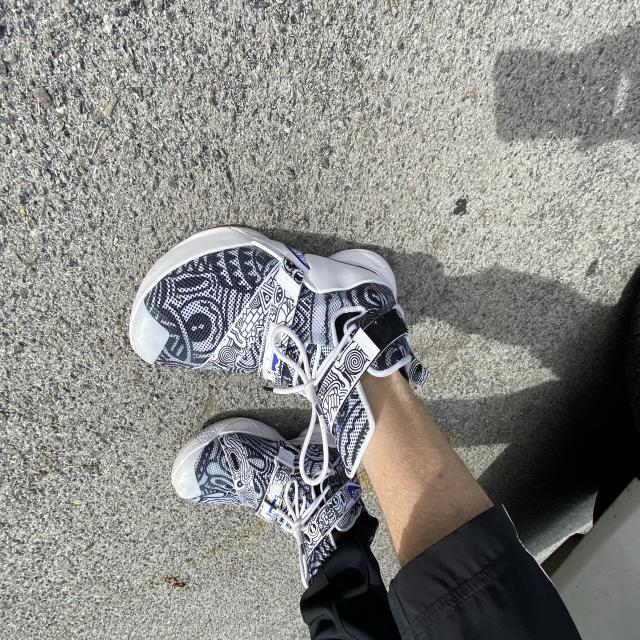shoe: (124, 220, 428, 485), (168, 410, 380, 593)
